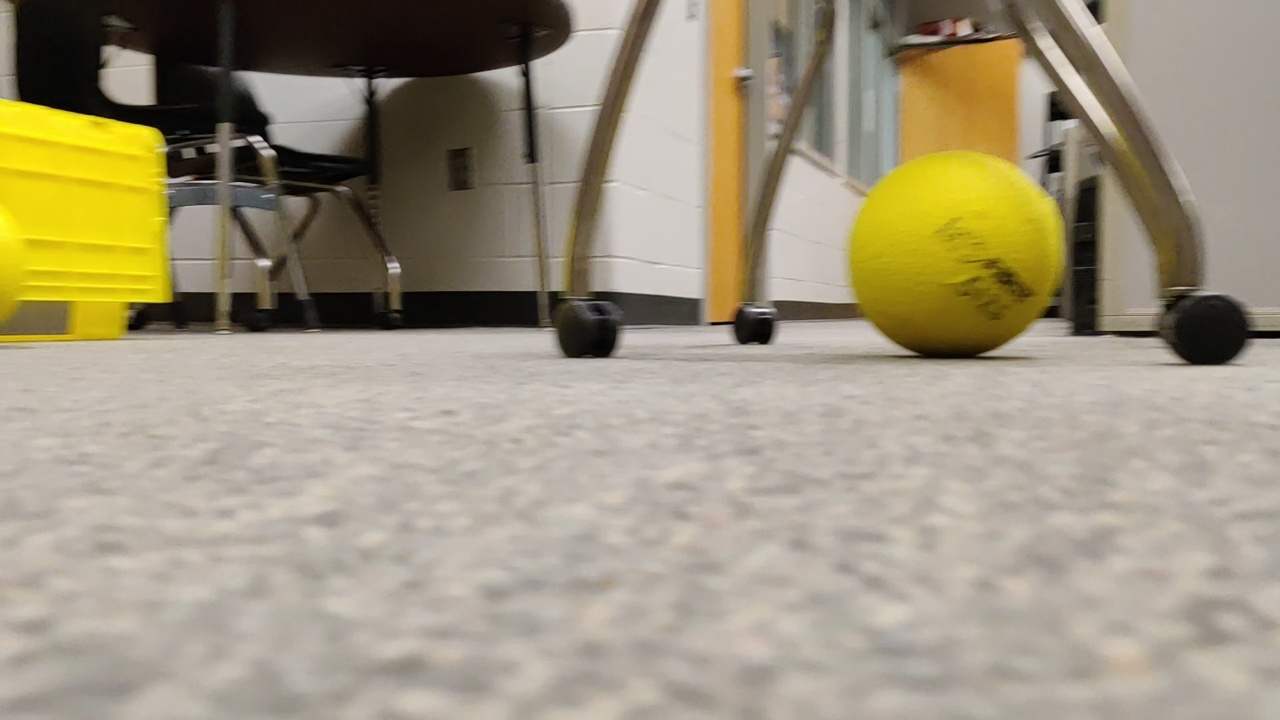Ball: (832, 151, 1072, 384)
